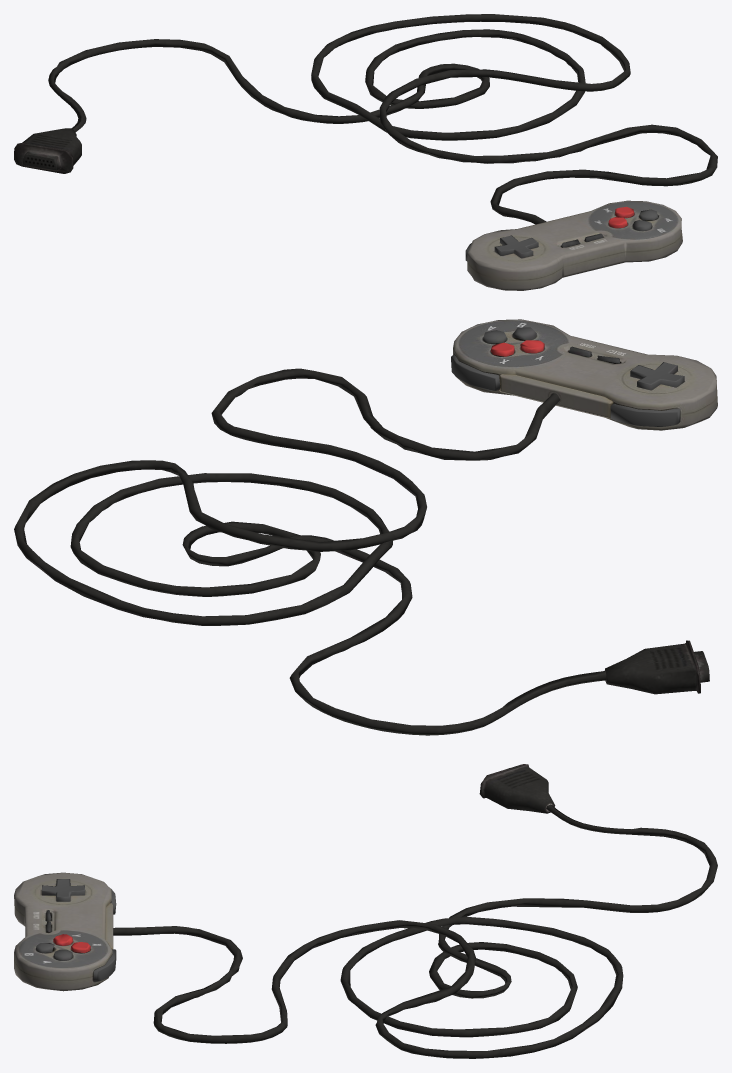
The model's file is gamepad.glb.
3 views of the same model, one above another, from view 1: azimuth 30°, elevation 25°; view 2: azimuth 150°, elevation 25°; view 3: azimuth 270°, elevation 25° (orthographic). The views are drawn at different scales.
Parts seen in each view (by area): view 1: gamepad; view 2: gamepad; view 3: gamepad.
Part boxes in pixels (bbox=[...]): gamepad: bbox=[14, 14, 717, 290]; gamepad: bbox=[14, 319, 717, 735]; gamepad: bbox=[14, 764, 717, 1058].
Size of the model in its own units: 0.4036 by 0.0189 by 0.435.
1 material, 1 textured.
